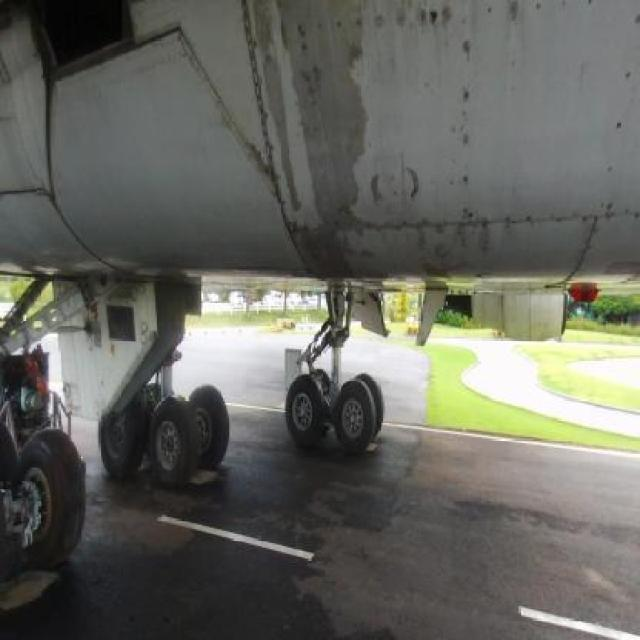Missing-Rivet: (348, 214, 588, 241), (608, 51, 635, 203), (458, 5, 476, 222), (300, 8, 455, 28), (528, 0, 602, 29), (503, 0, 522, 35)
Scartch: (246, 0, 397, 275), (366, 157, 434, 211)
